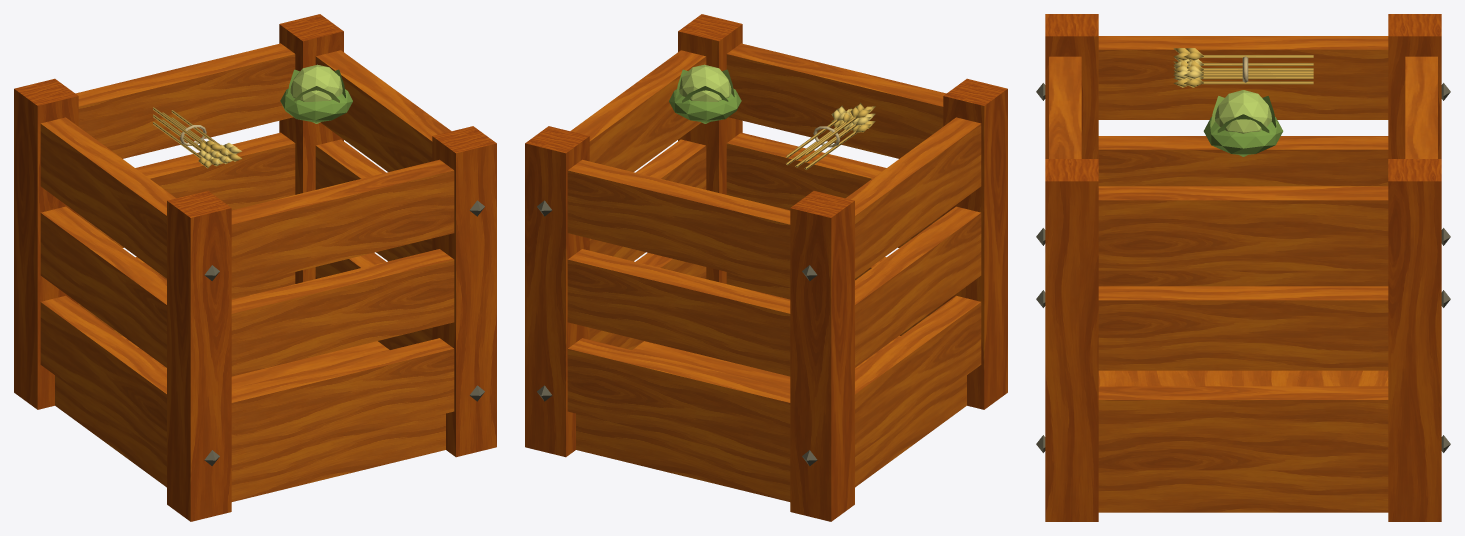
Rendered from farm-collection-box-6.gltf.
The picture shows the model from 3 angles, left to right: view 1: azimuth 30°, elevation 25°; view 2: azimuth 150°, elevation 25°; view 3: azimuth 270°, elevation 25°; orthographic projection. The views are drawn at different scales.
Parts seen in each view (by area): view 1: farm-collection-box-6; view 2: farm-collection-box-6; view 3: farm-collection-box-6.
Part boxes in pixels (x1=…): farm-collection-box-6: x1=14, y1=14, x2=496, y2=521; farm-collection-box-6: x1=525, y1=14, x2=1007, y2=521; farm-collection-box-6: x1=1036, y1=14, x2=1450, y2=521.
Size of the model in its own units: 0.8002 by 0.8448 by 0.8382.
2 materials, 1 textured.
